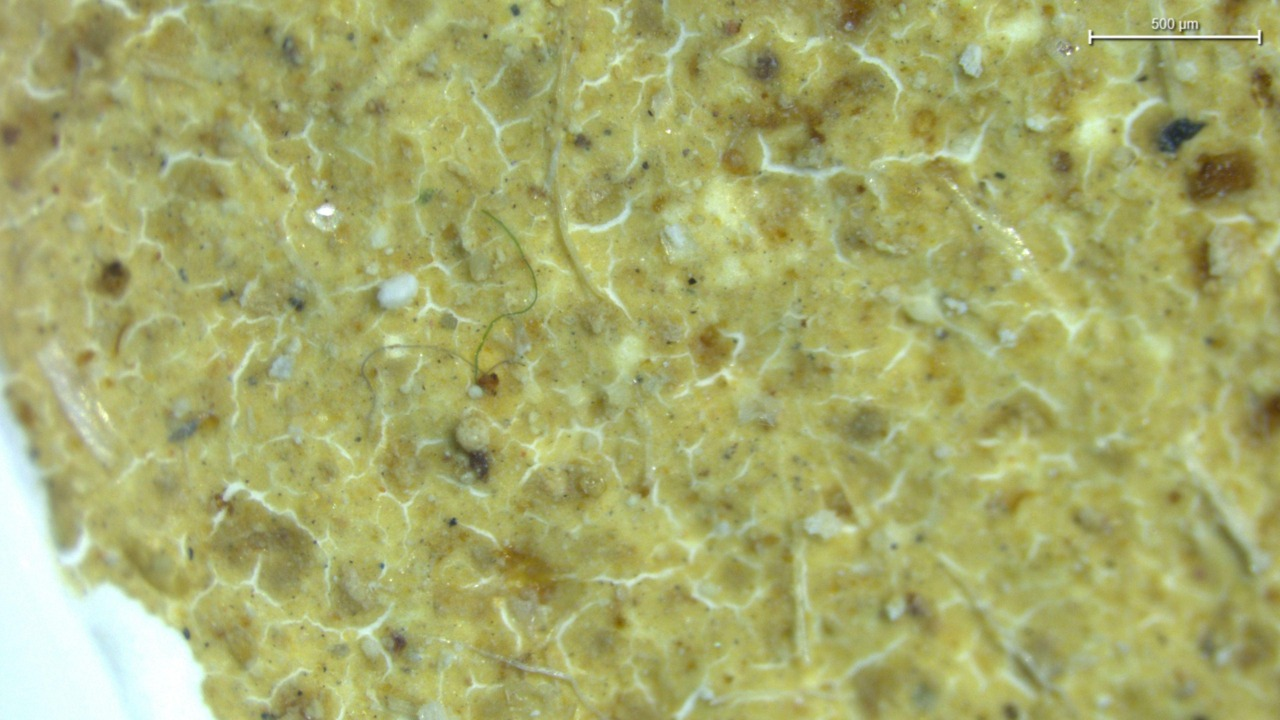microplastic_fragment: (377, 273, 418, 309), (456, 416, 489, 451), (958, 44, 983, 77)
